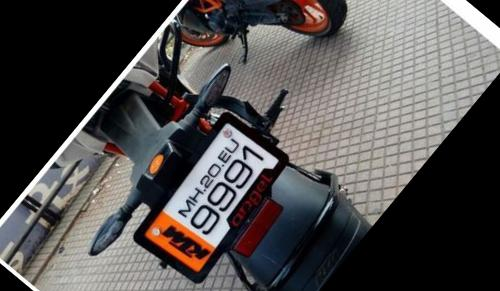plate: (133, 120, 290, 289)
